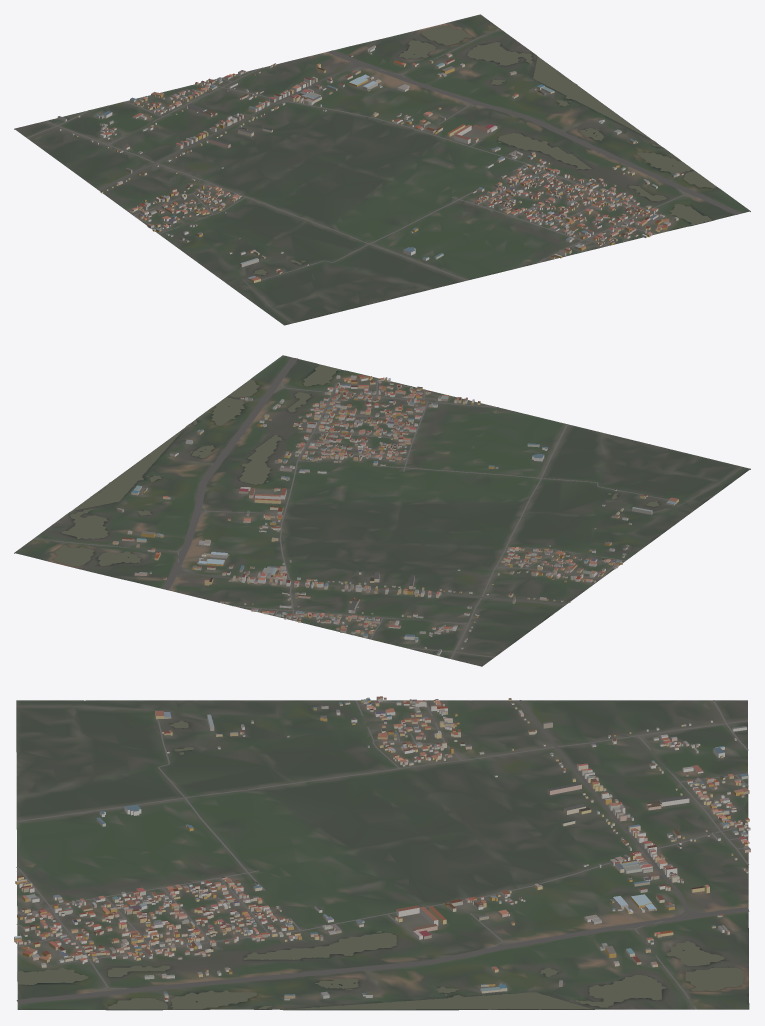
3 renders of one model, top to bottom at view 1: azimuth 30°, elevation 25°; view 2: azimuth 150°, elevation 25°; view 3: azimuth 270°, elevation 25°, orthographic. The views are drawn at different scales.
Parts seen in each view (by area): view 1: ground, buildings, water, roads; view 2: ground, buildings, water, roads; view 3: ground, buildings, water, roads.
Boxes of the visible parts, <box> form: ground: <box>14,14,750,325</box>; buildings: <box>57,45,683,282</box>; water: <box>253,25,716,274</box>; roads: <box>26,28,741,323</box>; ground: <box>14,355,750,666</box>; buildings: <box>112,374,678,655</box>; water: <box>53,364,659,566</box>; roads: <box>33,357,742,658</box>; ground: <box>16,700,749,1010</box>; buildings: <box>14,696,750,1001</box>; water: <box>18,720,743,1009</box>; roads: <box>16,700,749,1009</box>.
Bounding box in the file's own units: 1408 × 20.42 × 1412.
